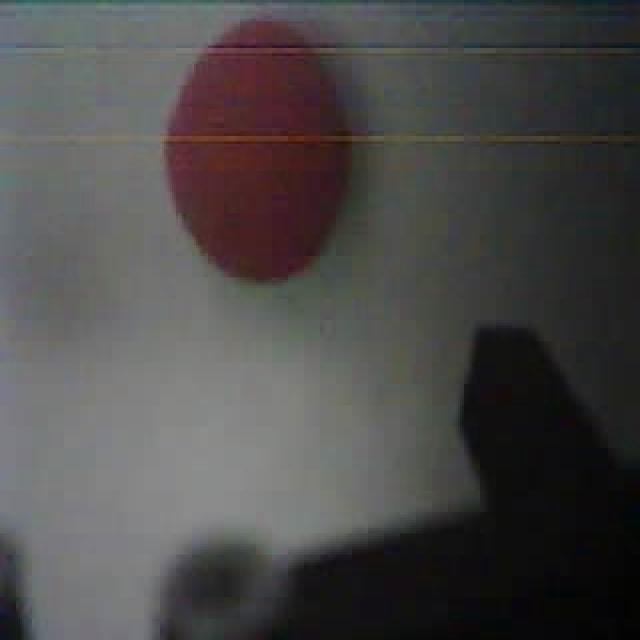red_ball: (160, 13, 356, 288)
